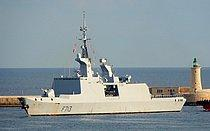MIL_Ship: (17, 9, 186, 114)
